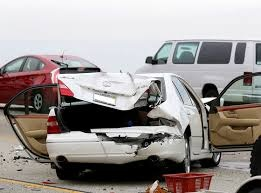Smashed: (46, 72, 191, 168)
